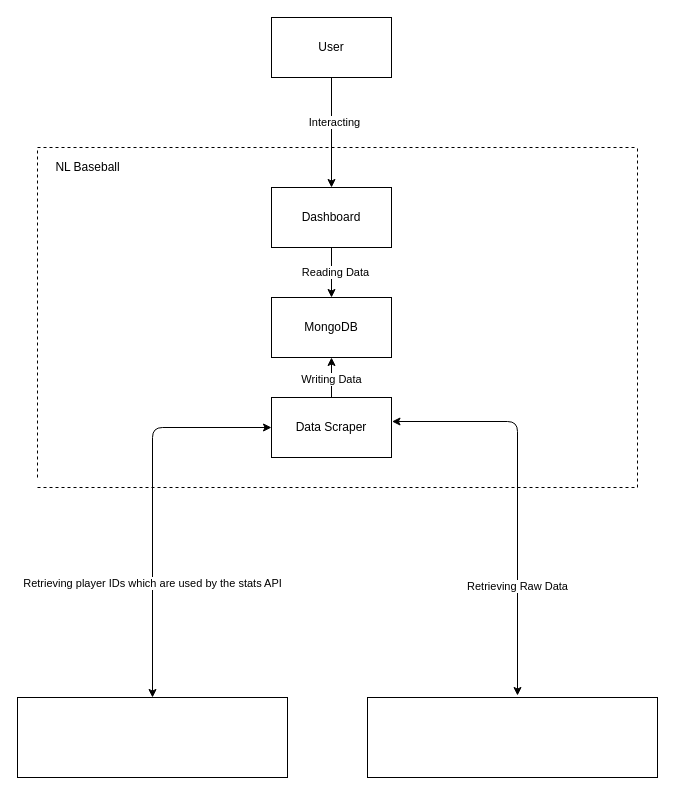
Image size: 675x795. Some labels were removed from this diagram. Here are the shapes that lost their labels. From the top down, the centre of each, then its label:
At (152,737): "https://www.honkbalsite.com/profhonkballers/".
At (512,737): "https://statsapi.mlb.com/".
